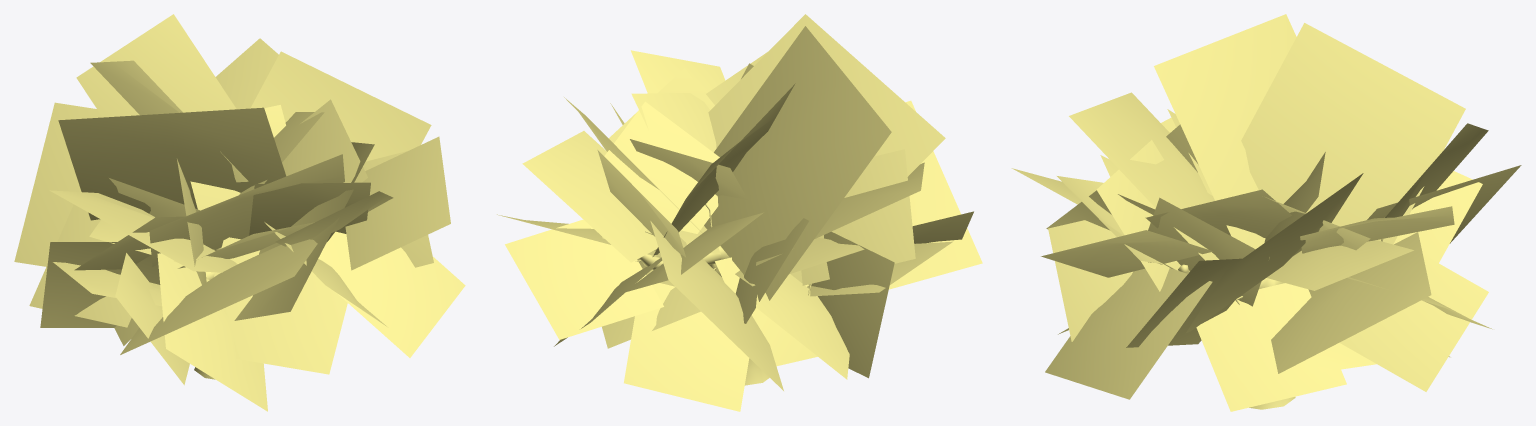
The model's file is arbre1.FBX.
The picture shows the model from 3 angles, left to right: view 1: azimuth 30°, elevation 25°; view 2: azimuth 150°, elevation 25°; view 3: azimuth 270°, elevation 25°; orthographic projection. The views are drawn at different scales.
Parts seen in each view (by area): view 1: Arbol; view 2: Arbol; view 3: Arbol.
Boxes of the visible parts, x1=… form: Arbol: x1=14, y1=14, x2=465, y2=411; Arbol: x1=497, y1=14, x2=982, y2=411; Arbol: x1=1011, y1=14, x2=1521, y2=411.
Size of the model in its own units: 923 by 1039 by 751.
